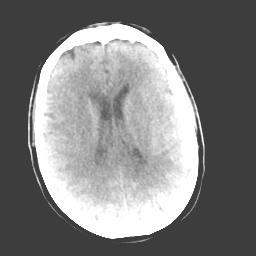ischemic: (144, 139, 185, 177)
